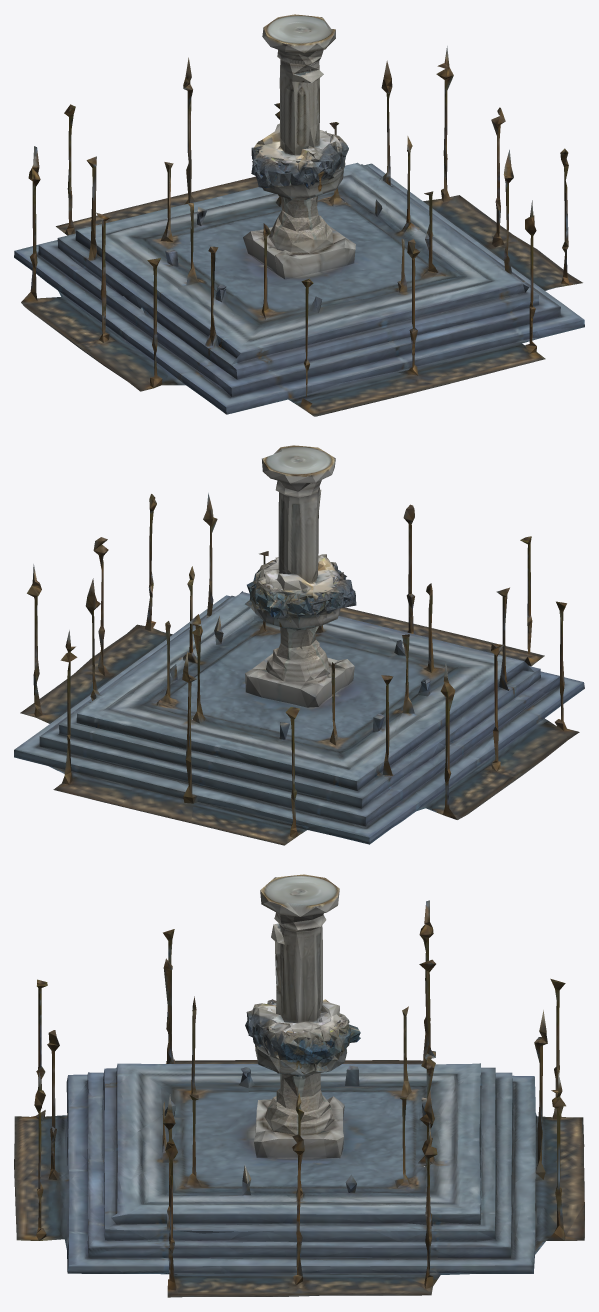
File: Eternal_Vigilance_0606130950_texture.fbx
3 views of the same model, one above another, from view 1: azimuth 30°, elevation 25°; view 2: azimuth 150°, elevation 25°; view 3: azimuth 270°, elevation 25° (orthographic). The views are drawn at different scales.
Parts seen in each view (by area): view 1: temp; view 2: temp; view 3: temp.
Boxes of the visible parts, x1,y1,x2,y2 form: temp: (14,14,584,416); temp: (14,445,584,845); temp: (14,874,584,1297).
Bounding box in the file's own units: 163 × 92.21 × 166.
1 material, 1 textured.
